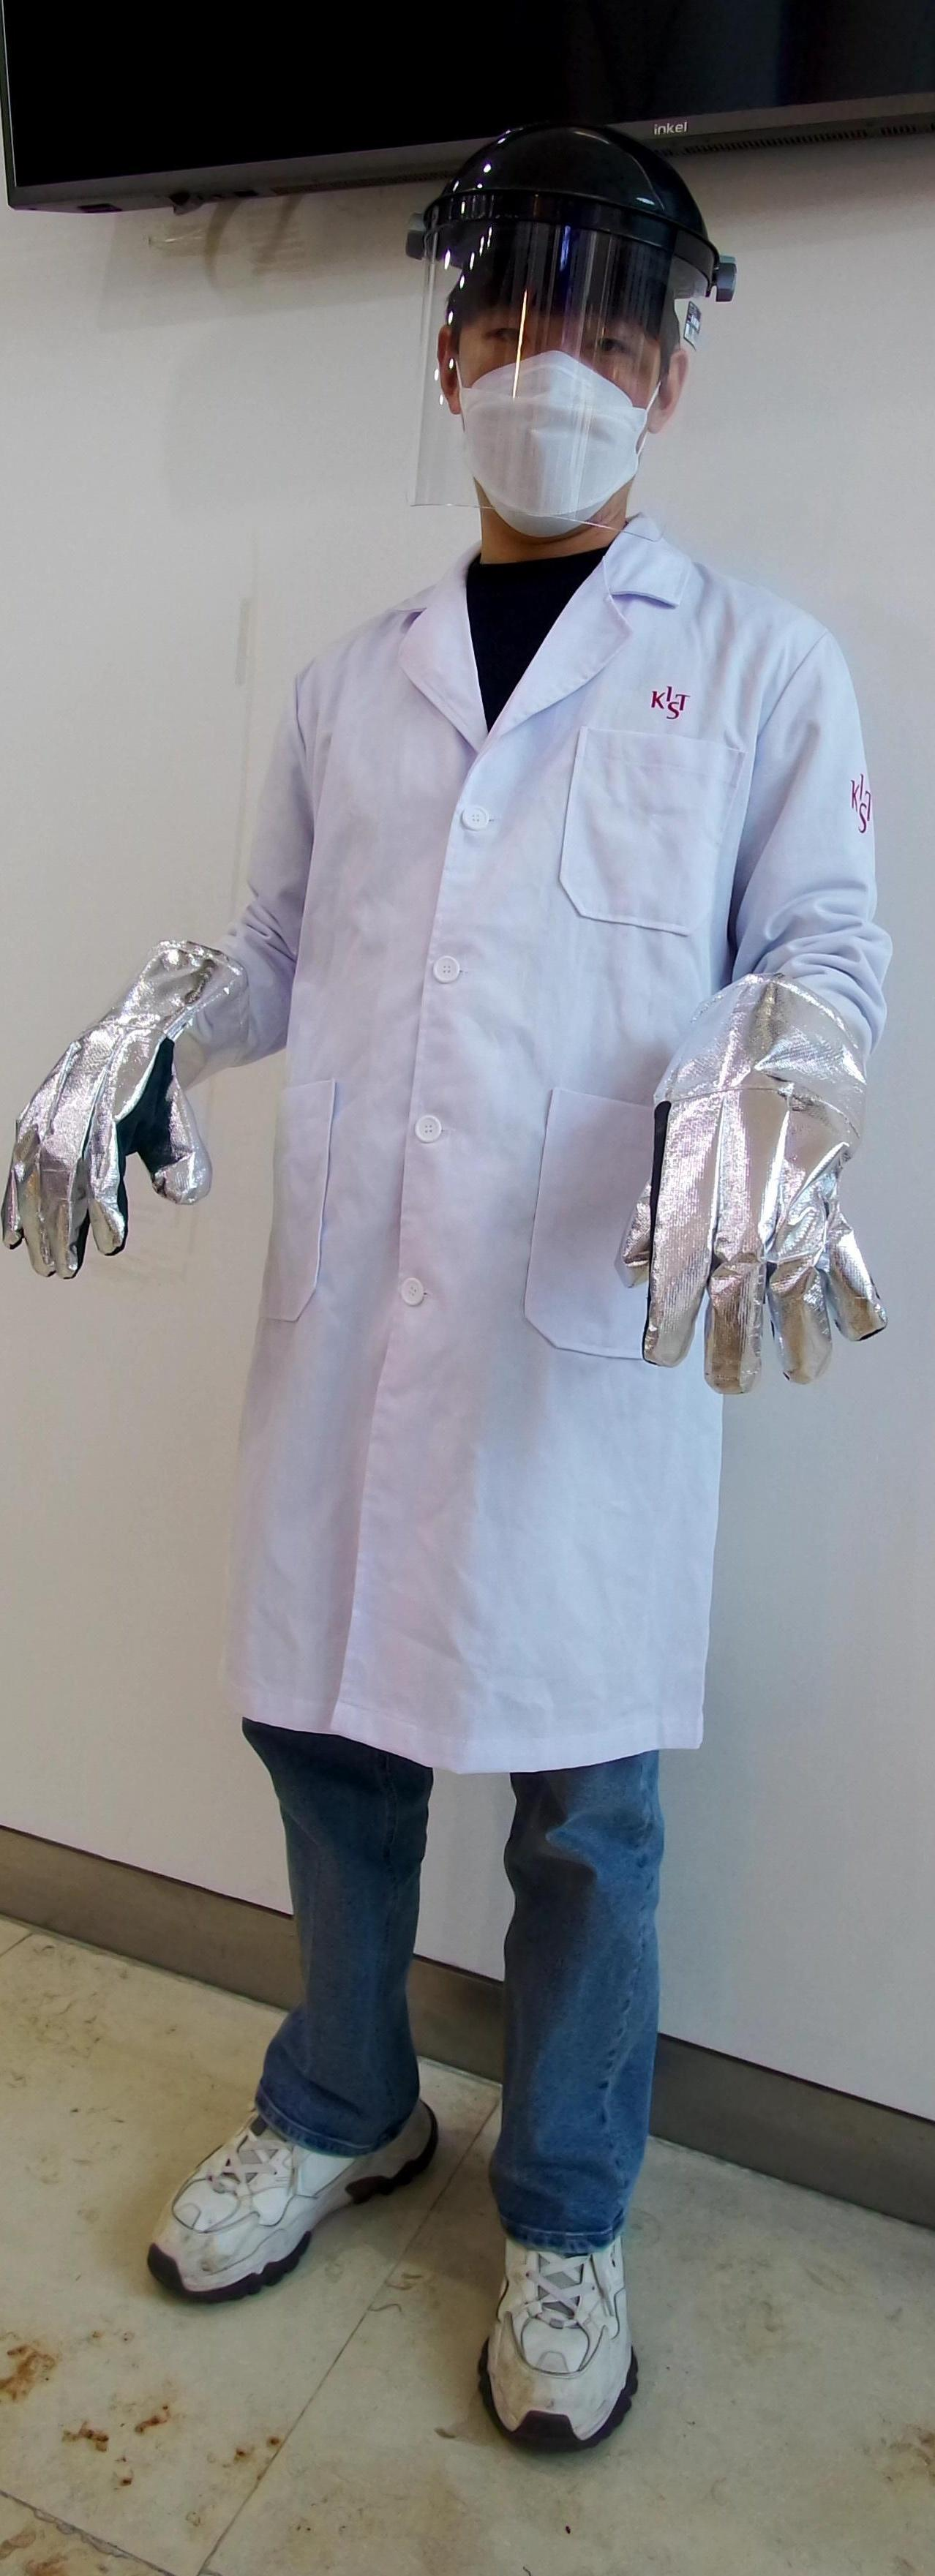lab_coat: (228, 595, 644, 1756)
